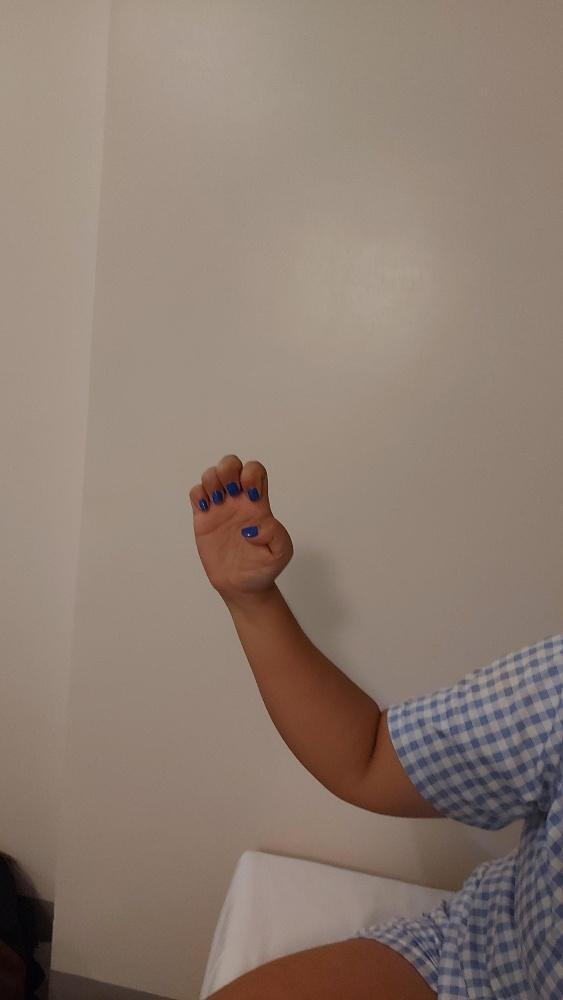e: (186, 449, 294, 595)
